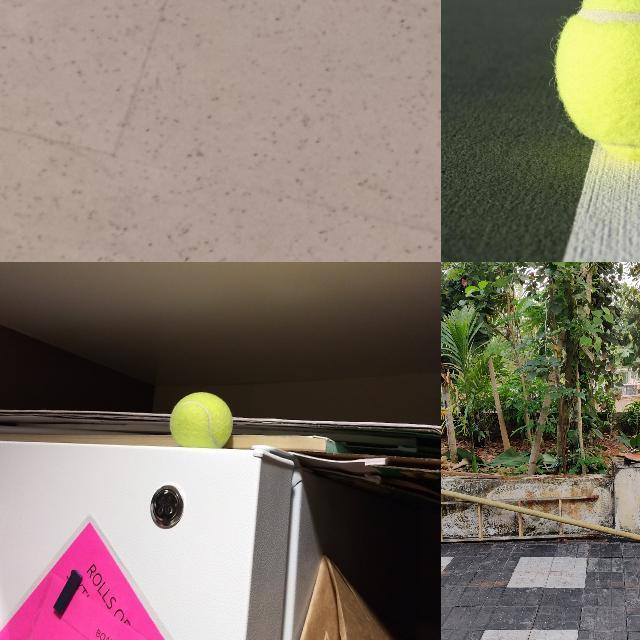tennis-ball: (554, 0, 639, 158), (169, 390, 233, 446)
